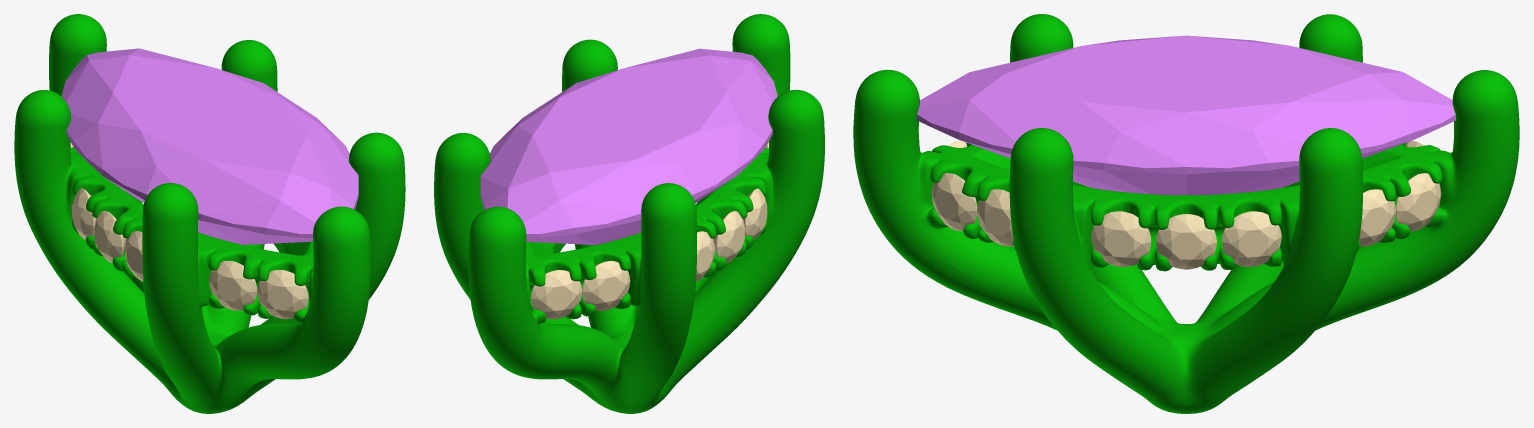
3 views of the same model, side by side, from view 1: azimuth 30°, elevation 25°; view 2: azimuth 150°, elevation 25°; view 3: azimuth 270°, elevation 25° (orthographic). The views are drawn at different scales.
Visible parts, largest first — view 1: Metal01, Diamond_Marquise, Diamond_Round.013, Diamond_Round.008, Diamond_Round.004, Diamond_Round.003, Diamond_Round.005; view 2: Metal01, Diamond_Marquise, Diamond_Round.007, Diamond_Round.006, Diamond_Round.004, Diamond_Round.005, Diamond_Round.003; view 3: Metal01, Diamond_Marquise, Diamond_Round.001, Diamond_Round.002, Diamond_Round, Diamond_Round.010, Diamond_Round.011, Diamond_Round.012, Diamond_Round.009.
Boxes of the visible parts, x1,y1,x2,y2 form: Metal01: (14,14,405,413); Diamond_Marquise: (61,48,358,244); Diamond_Round.013: (257,270,308,319); Diamond_Round.008: (209,261,257,310); Diamond_Round.004: (93,211,126,263); Diamond_Round.003: (72,188,96,239); Diamond_Round.005: (124,231,143,281); Metal01: (434,14,824,413); Diamond_Marquise: (480,48,777,244); Diamond_Round.007: (530,270,582,319); Diamond_Round.006: (582,261,630,310); Diamond_Round.004: (713,211,745,263); Diamond_Round.005: (743,188,767,239); Diamond_Round.003: (696,231,714,281); Metal01: (853,14,1519,413); Diamond_Marquise: (916,35,1455,195); Diamond_Round.001: (1156,214,1216,269); Diamond_Round.002: (1221,211,1281,266); Diamond_Round: (1091,211,1151,266); Diamond_Round.010: (931,173,977,231); Diamond_Round.011: (1395,173,1441,231); Diamond_Round.012: (1359,189,1395,246); Diamond_Round.009: (977,189,1013,246).
Size of the model in its own units: 5.51 by 6.09 by 10.95.
